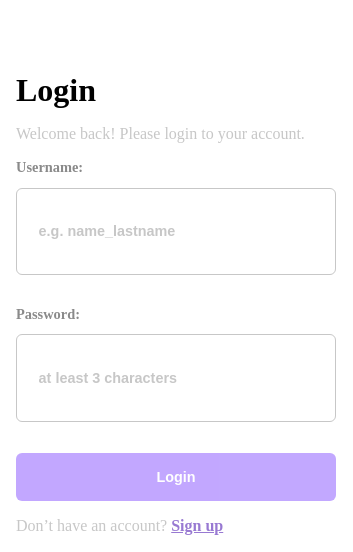
Login page interaction › When the user trys to access his account and fails, › a generic error message is shown
Step 1. Type "test1" into the field labelled "Username:" → (176, 231), box [16,188,336,275]
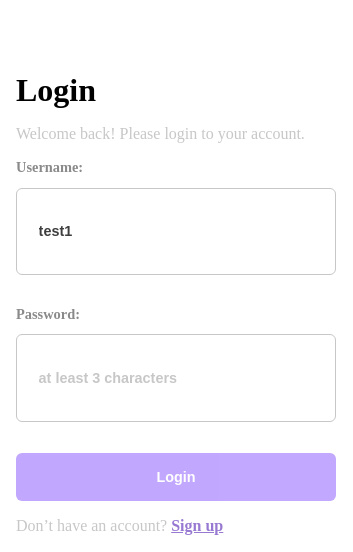
Step 2. Type "1234" into the password field labelled "Password:" → (176, 378), box [16,334,336,422]
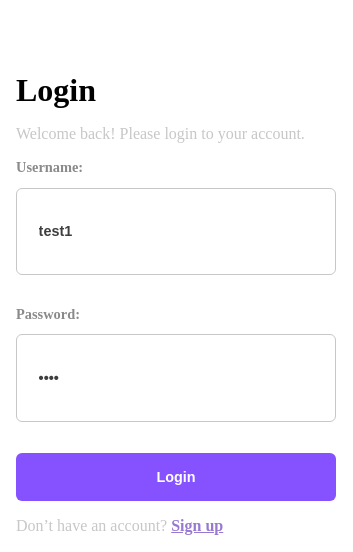
Step 3. Click the button "Login" → click(176, 477), box [16,453,336,501]
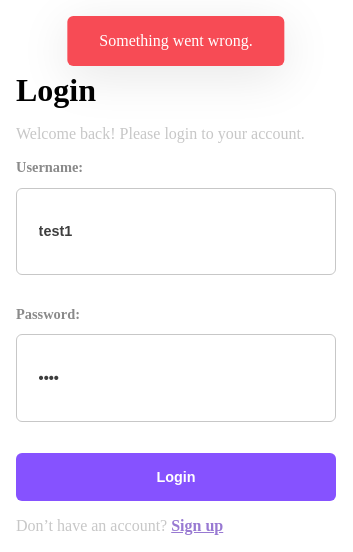
expect the text "Something went wrong." is shown: met, box [99,32,253,50]
